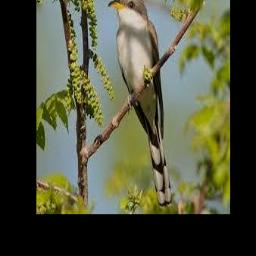Cuckoo: (108, 0, 173, 208)
